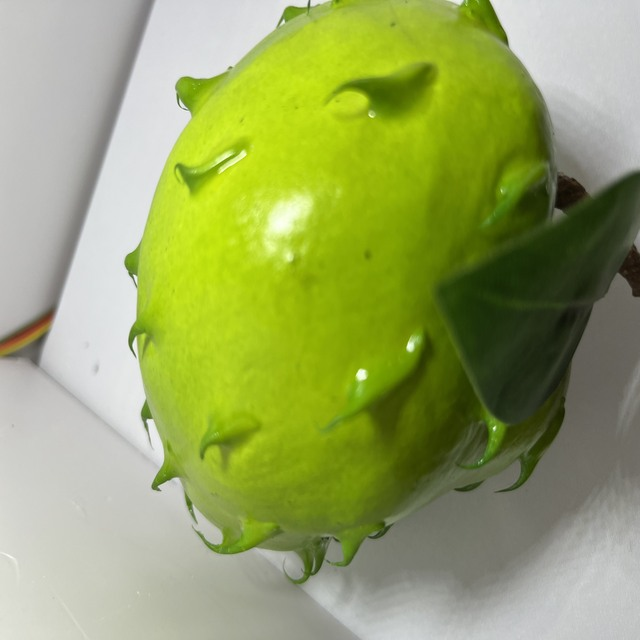Man cau: (110, 0, 582, 590)
